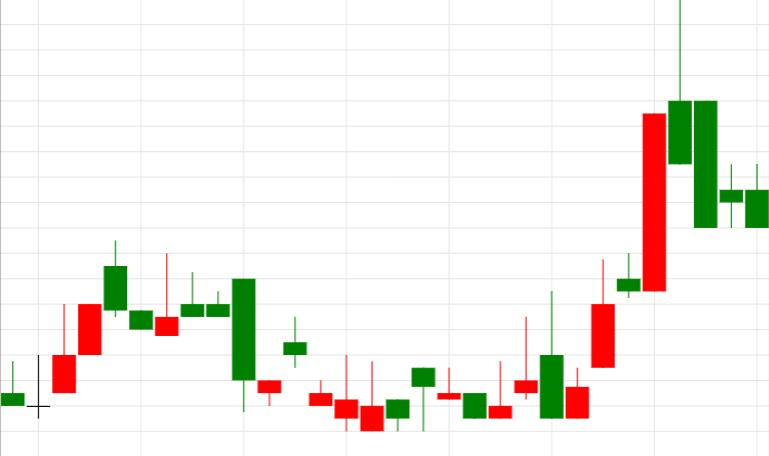shooting_star_fall: (566, 0, 691, 419)
